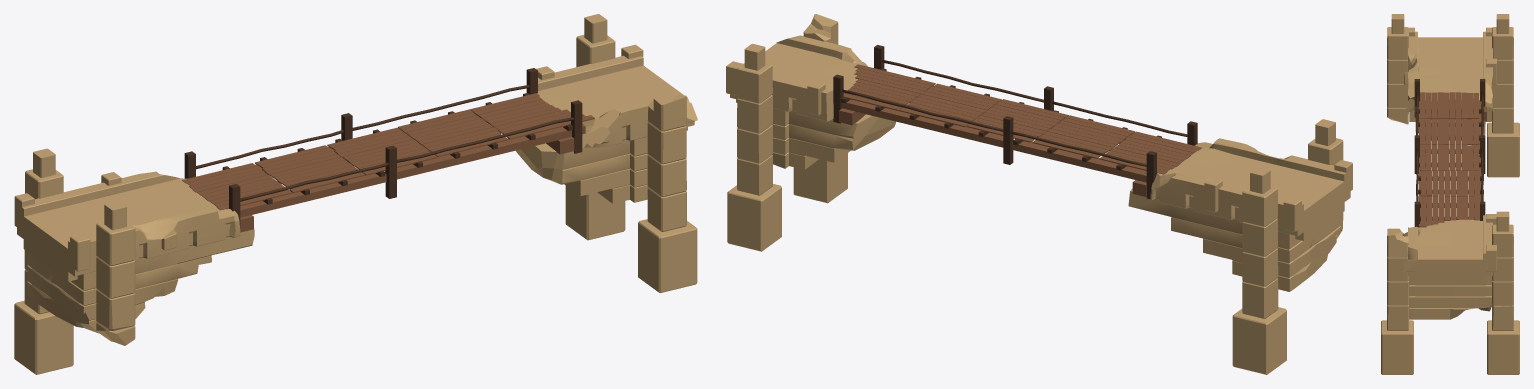
Rendered from RuinsArea3Bridge_Export.fbx.
The picture shows the model from 3 angles, left to right: view 1: azimuth 30°, elevation 25°; view 2: azimuth 150°, elevation 25°; view 3: azimuth 270°, elevation 25°; orthographic projection. The views are drawn at different scales.
Visible parts, largest first — view 1: bridge3Base, boards.002; view 2: bridge3Base, boards.002; view 3: bridge3Base, boards.002.
Part boxes in pixels (x1,y1,x2,y2): bridge3Base: (14,14,697,374); boards.002: (182,68,594,232); bridge3Base: (726,14,1352,374); boards.002: (833,45,1201,199); bridge3Base: (1381,14,1519,374); boards.002: (1414,79,1486,227).
Size of the model in its own units: 5608 by 1810 by 1478.
